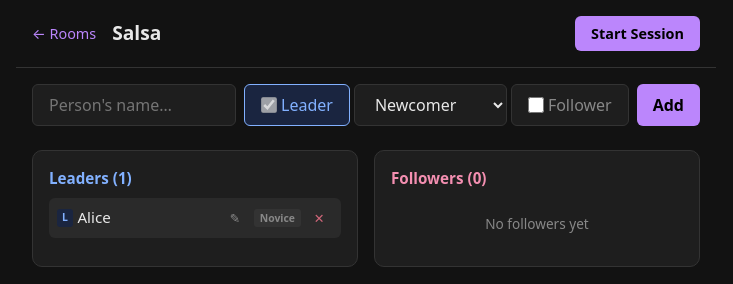
Scenario: Room page › person rename › cancels rename via Escape key
Click the button named "rename person": coordinates (236, 218) [222, 204, 250, 232]
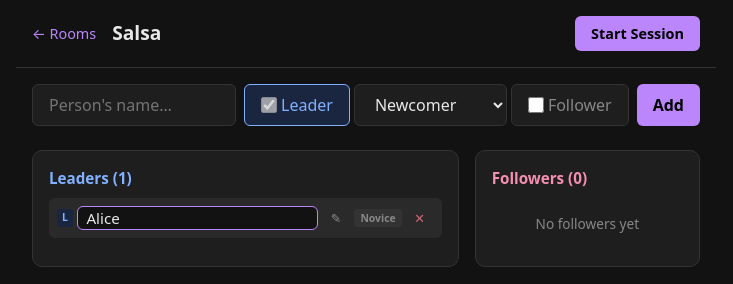
Replace the text in the field showing "Alice" with "Should not appear": coordinates (198, 218) [77, 206, 318, 230]
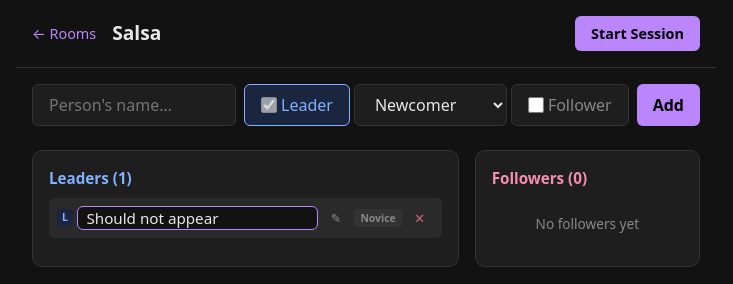
Press Escape
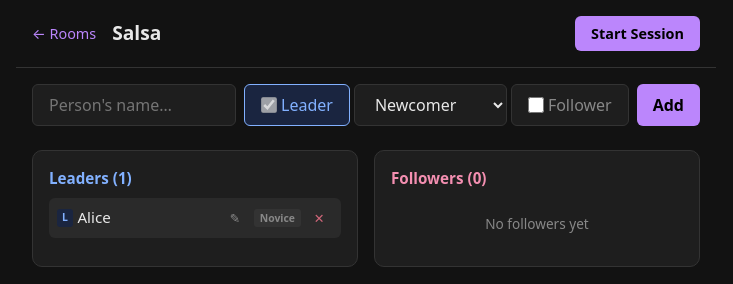
Check: the text "Should not appear" is not shown
Check: the text "Alice" is shown, box [77, 207, 111, 227]
